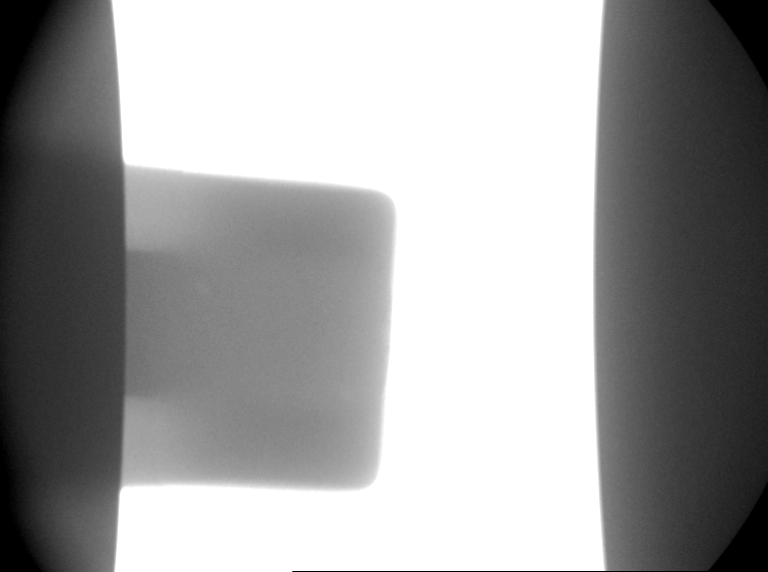defect: (332, 382, 361, 408)
